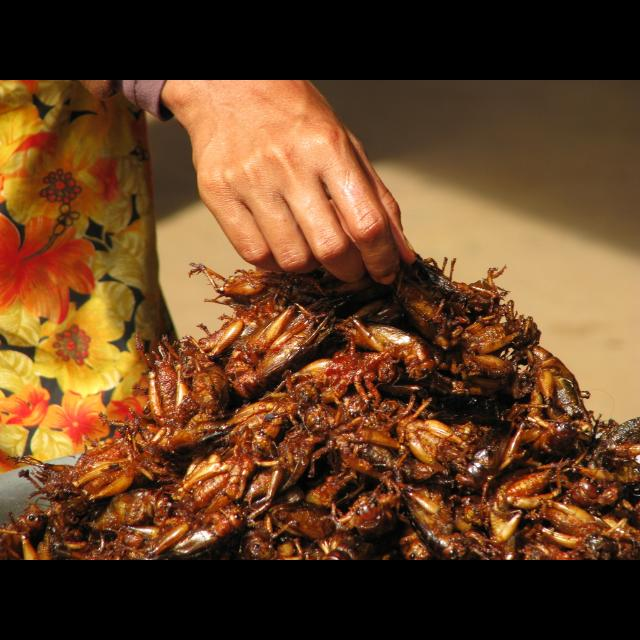Flower: (0, 212, 96, 322), (29, 306, 117, 388), (47, 392, 109, 450), (0, 387, 48, 427), (41, 168, 85, 202), (107, 395, 141, 425)
